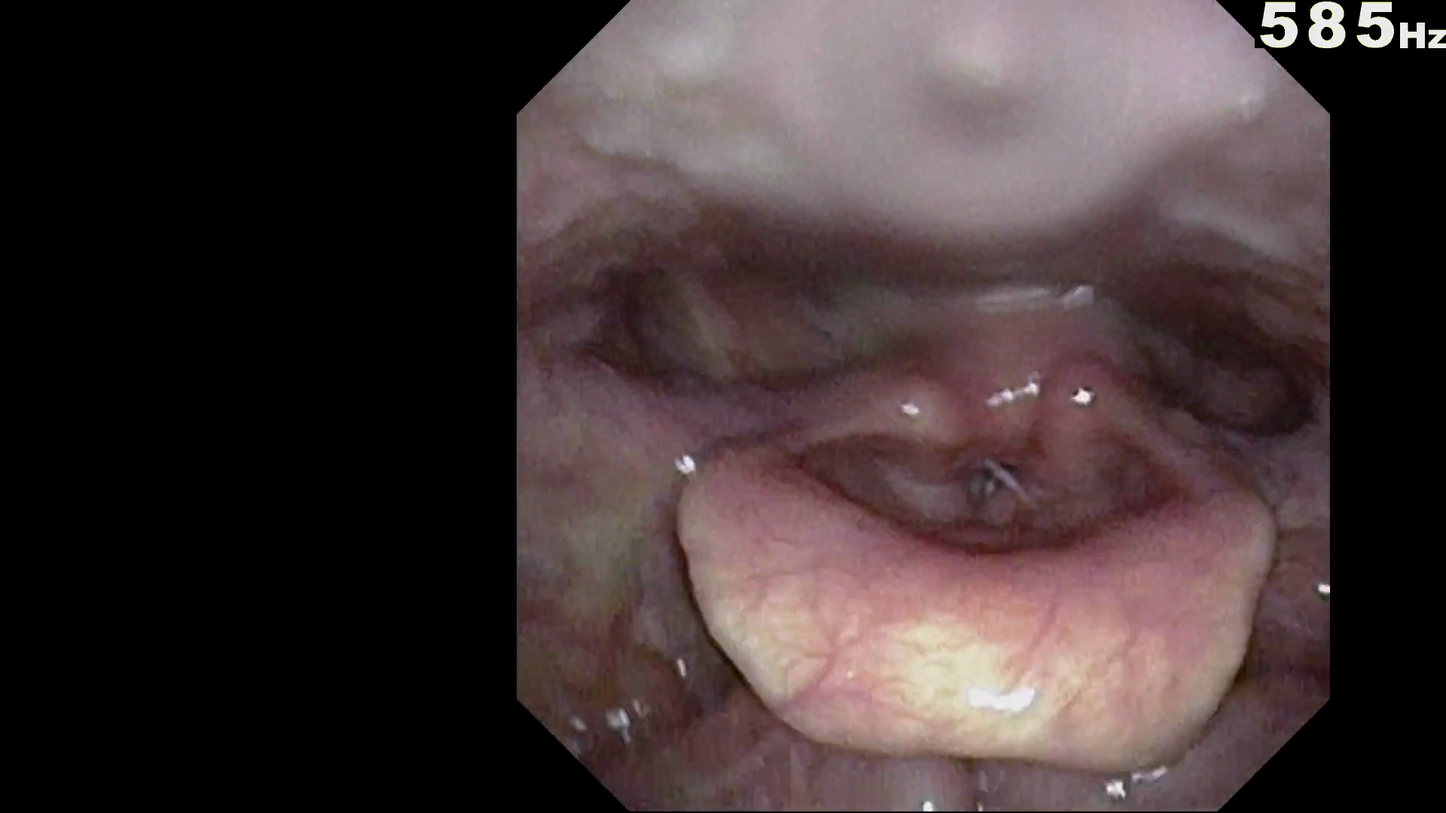epiglottis: (669, 429, 1279, 695)
trachea: (932, 420, 1055, 540)
